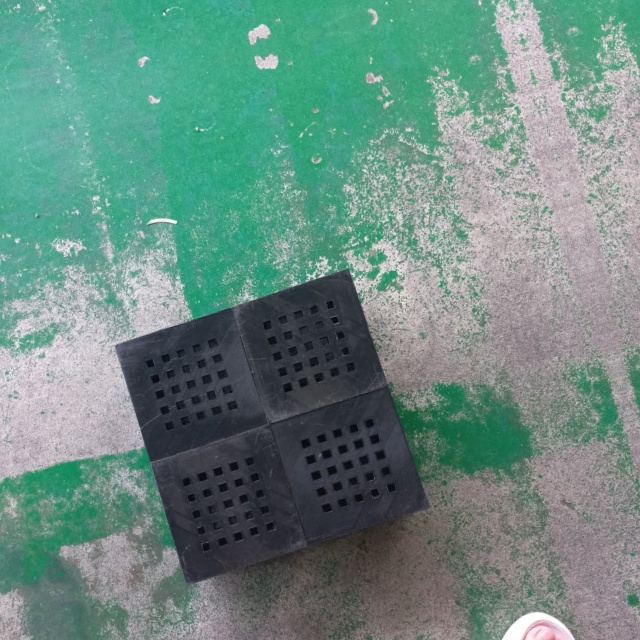pallet: (106, 260, 440, 594)
